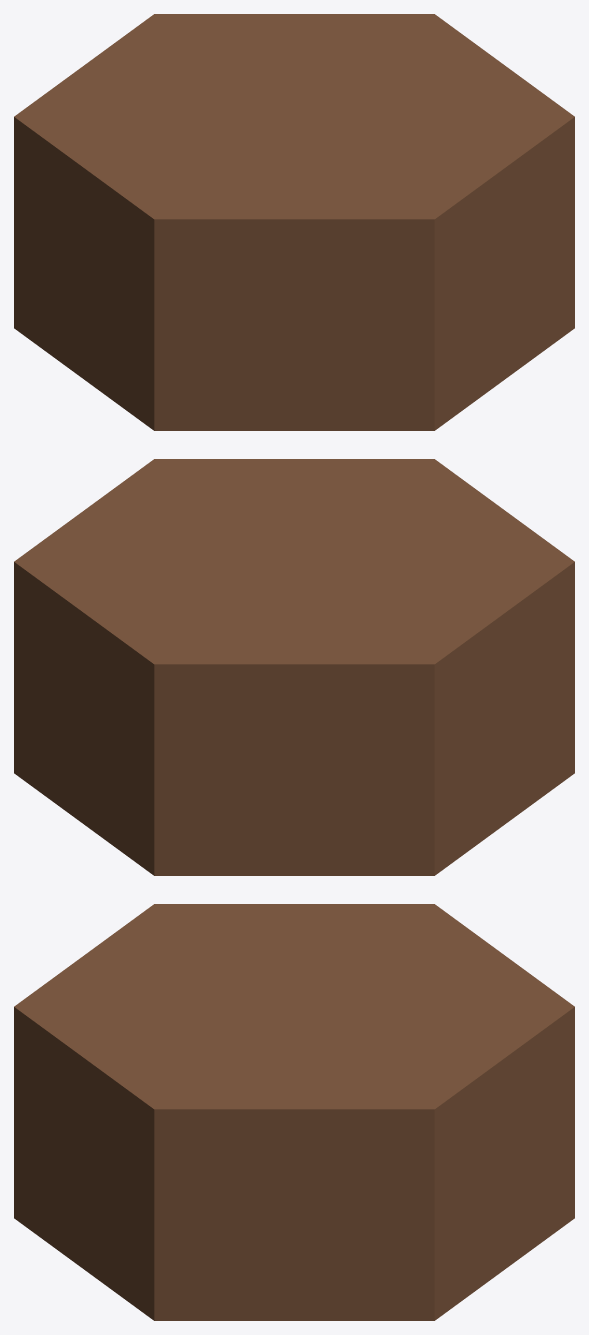
The model's file is stump.fbx.
3 views of the same model, one above another, from view 1: azimuth 30°, elevation 25°; view 2: azimuth 150°, elevation 25°; view 3: azimuth 270°, elevation 25° (orthographic).
Visible parts, largest first — view 1: Cylinder.006; view 2: Cylinder.006; view 3: Cylinder.006.
Part boxes in pixels (x1,y1,x2,y2): Cylinder.006: (14, 14, 574, 430); Cylinder.006: (14, 459, 574, 875); Cylinder.006: (14, 904, 574, 1320).
Bounding box in the file's own units: 1.31 × 0.63 × 1.51.
